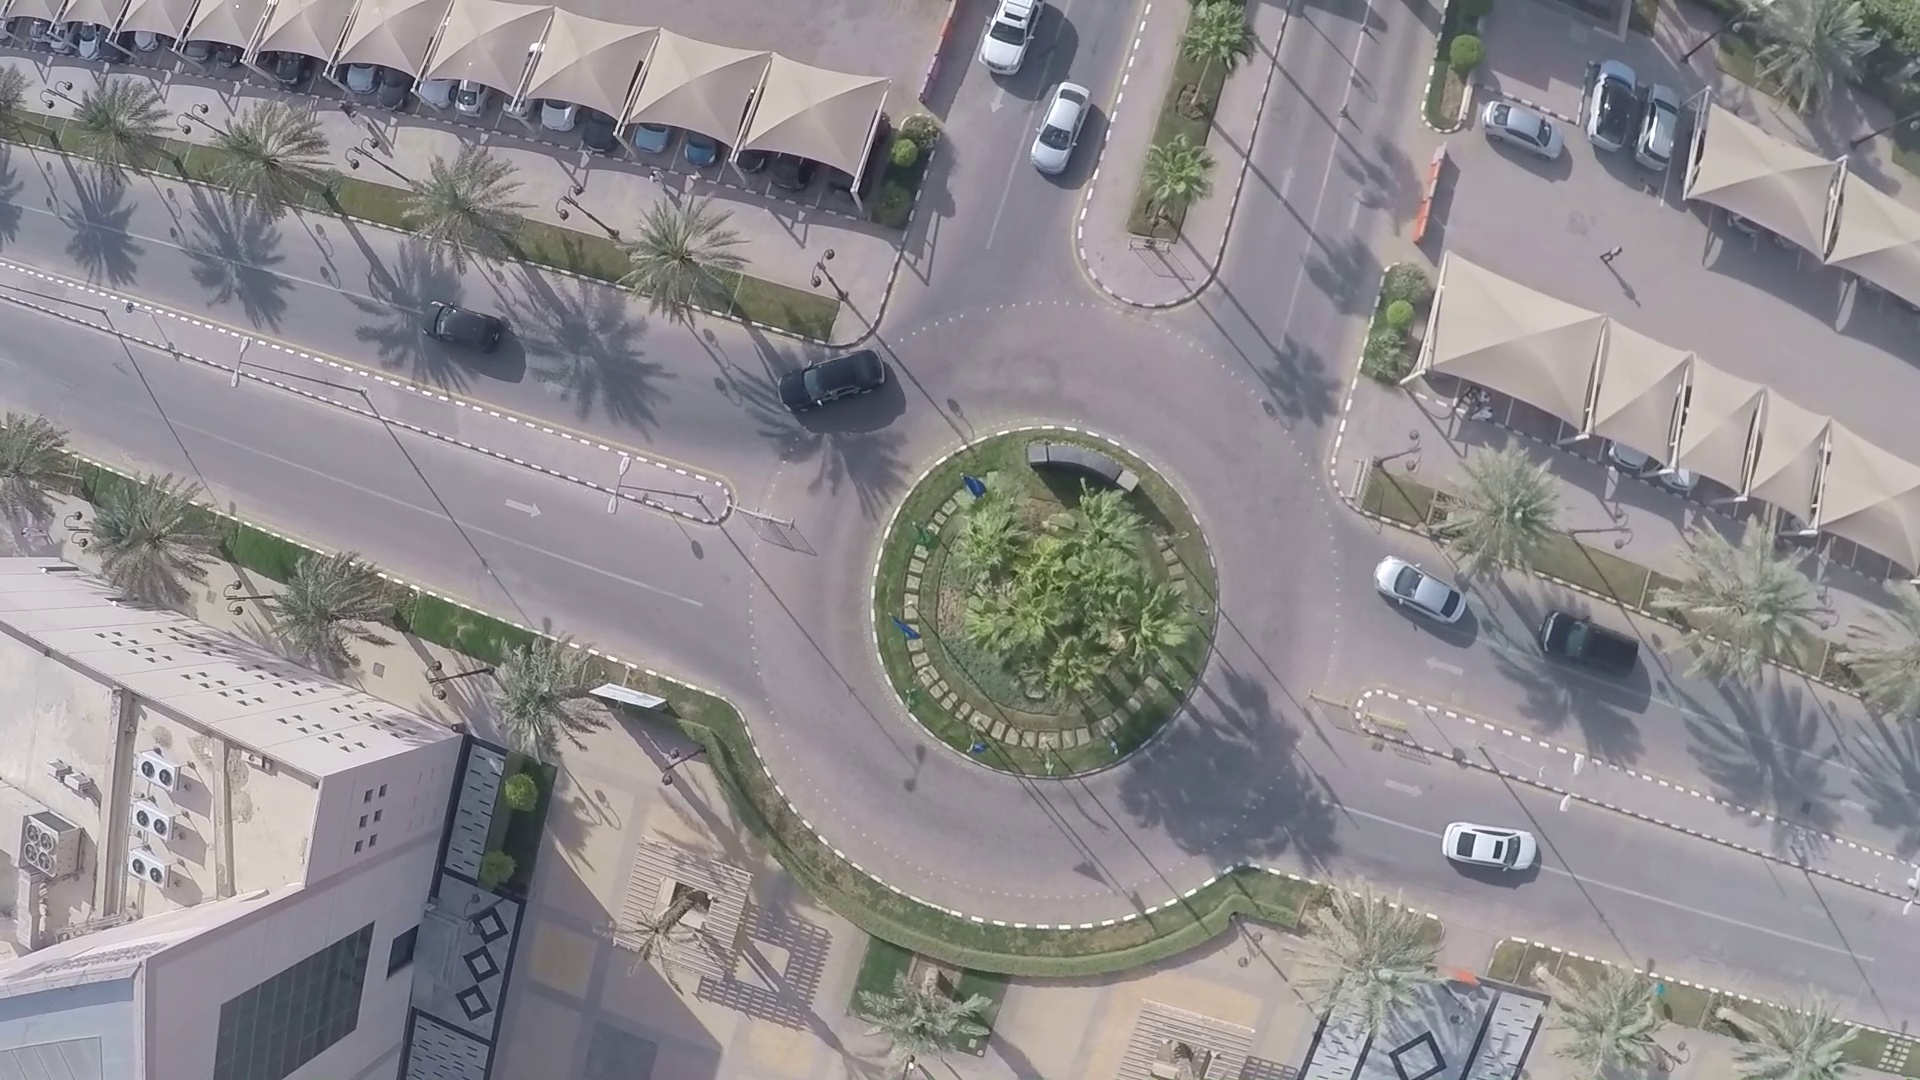car: (767, 353, 901, 429), (1021, 87, 1101, 187), (1545, 622, 1648, 688), (414, 295, 518, 357), (1447, 818, 1543, 884), (1381, 560, 1473, 628)
